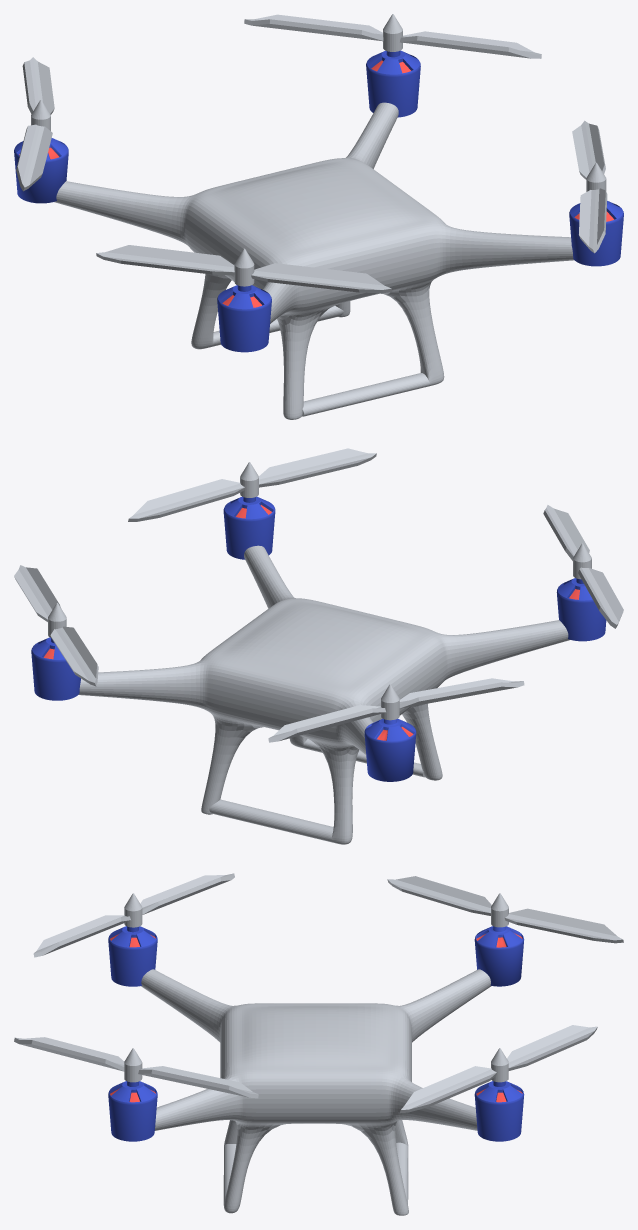
Rendered from drone 1.fbx.
The picture shows the model from 3 angles, top to bottom: view 1: azimuth 30°, elevation 25°; view 2: azimuth 150°, elevation 25°; view 3: azimuth 270°, elevation 25°; orthographic projection. The views are drawn at different scales.
Visible parts, largest first — view 1: 本体, プロペラ3, プロペラ１, プロペラ2, 軸.003, プロペラ4, 軸.001, 軸, 軸.002; view 2: 本体, プロペラ4, プロペラ2, プロペラ１, 軸.002, プロペラ3, 軸, 軸.003, 軸.001; view 3: 本体, プロペラ2, プロペラ１, プロペラ4, プロペラ3, 軸, 軸.001, 軸.003, 軸.002.
Part boxes in pixels (box(x1,y1,x2,y2)): 本体: box(54, 102, 573, 419); プロペラ3: box(96, 245, 392, 293); プロペラ１: box(244, 14, 541, 58); プロペラ2: box(16, 57, 54, 191); 軸.003: box(217, 285, 271, 352); プロペラ4: box(572, 120, 607, 253); 軸.001: box(366, 50, 420, 117); 軸: box(569, 200, 623, 266); 軸.002: box(14, 138, 68, 203); 本体: box(78, 545, 569, 844); プロペラ4: box(128, 448, 376, 521); プロペラ2: box(268, 678, 524, 742); プロペラ１: box(14, 565, 98, 686); 軸.002: box(364, 718, 416, 781); プロペラ3: box(543, 505, 623, 628); 軸: box(223, 496, 275, 559); 軸.003: box(556, 578, 606, 641); 軸.001: box(31, 637, 80, 700); 本体: box(141, 969, 491, 1215); プロペラ2: box(387, 876, 623, 943); プロペラ１: box(400, 1025, 597, 1113); プロペラ4: box(14, 1037, 258, 1098); プロペラ3: box(33, 873, 234, 957); 軸: box(108, 1081, 157, 1141); 軸.001: box(474, 1081, 524, 1141); 軸.003: box(108, 926, 157, 986); 軸.002: box(474, 926, 524, 986).
Bounding box in the file's own units: 454 × 189 × 495.
